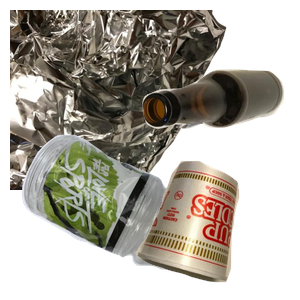glass: (140, 67, 300, 188)
metal: (10, 10, 229, 190)
plastic: (19, 132, 242, 300)
trash: (133, 158, 300, 300)
